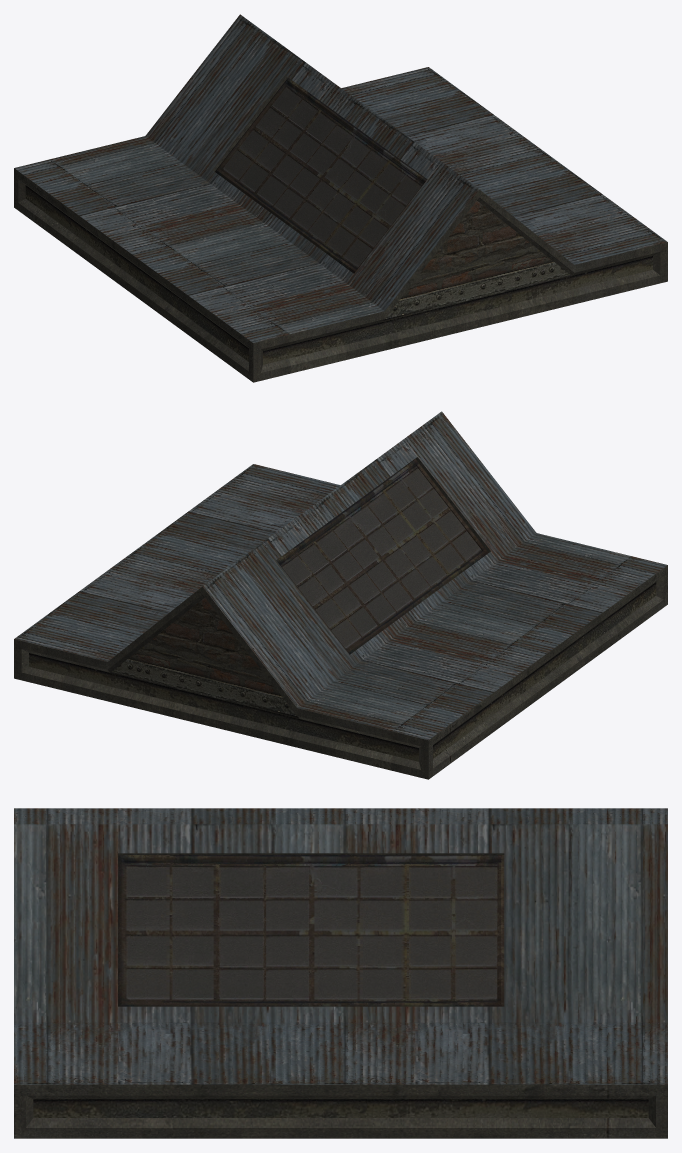
The model's file is roof_bx_1_corner_1.obj.
The picture shows the model from 3 angles, top to bottom: view 1: azimuth 30°, elevation 25°; view 2: azimuth 150°, elevation 25°; view 3: azimuth 270°, elevation 25°; orthographic projection. The views are drawn at different scales.
Visible parts, largest first — view 1: roof_bx_1_corner_1; view 2: roof_bx_1_corner_1; view 3: roof_bx_1_corner_1.
Part boxes in pixels (<box>): roof_bx_1_corner_1: <box>14,14,667,382</box>; roof_bx_1_corner_1: <box>14,411,667,779</box>; roof_bx_1_corner_1: <box>14,808,667,1138</box>.
Size of the model in its own units: 4.4 by 1.4 by 4.4.
